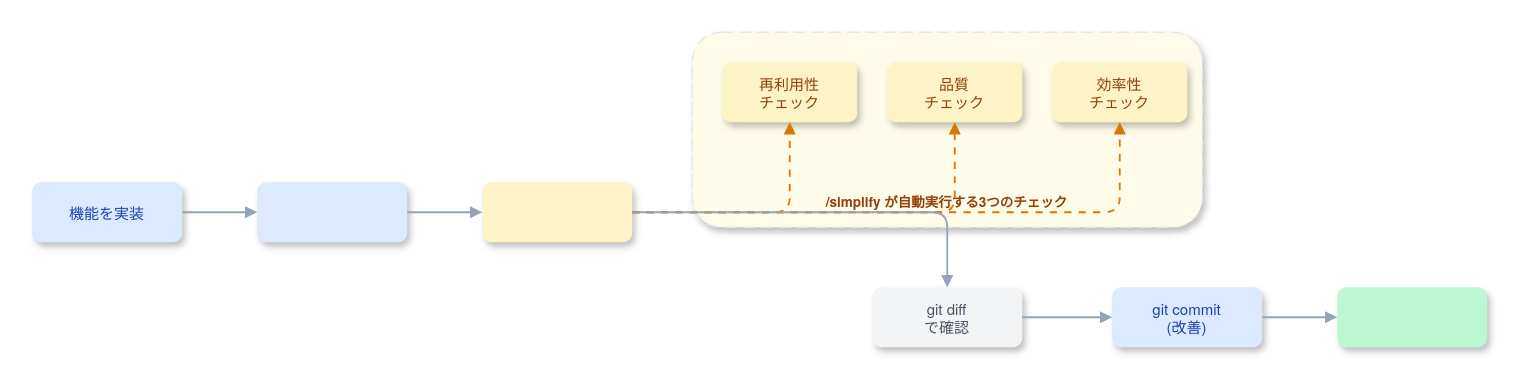
Image size: 1521x384. Some labels were removed from this diagram. Here are the shapes that lost their labels. From the top down, the centre of each, then its label:
the point at 333,214: git commit (実装)
the point at 558,214: /simplify 実行
the point at 1413,318: PR作成
